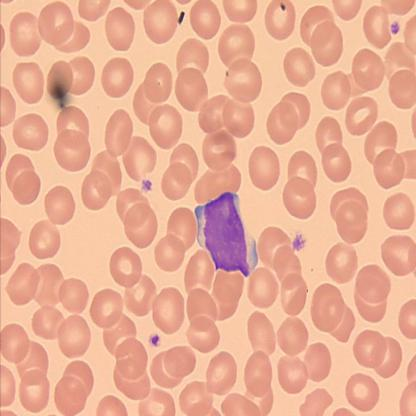Atypical lymphocyte: (195, 191, 261, 281)
